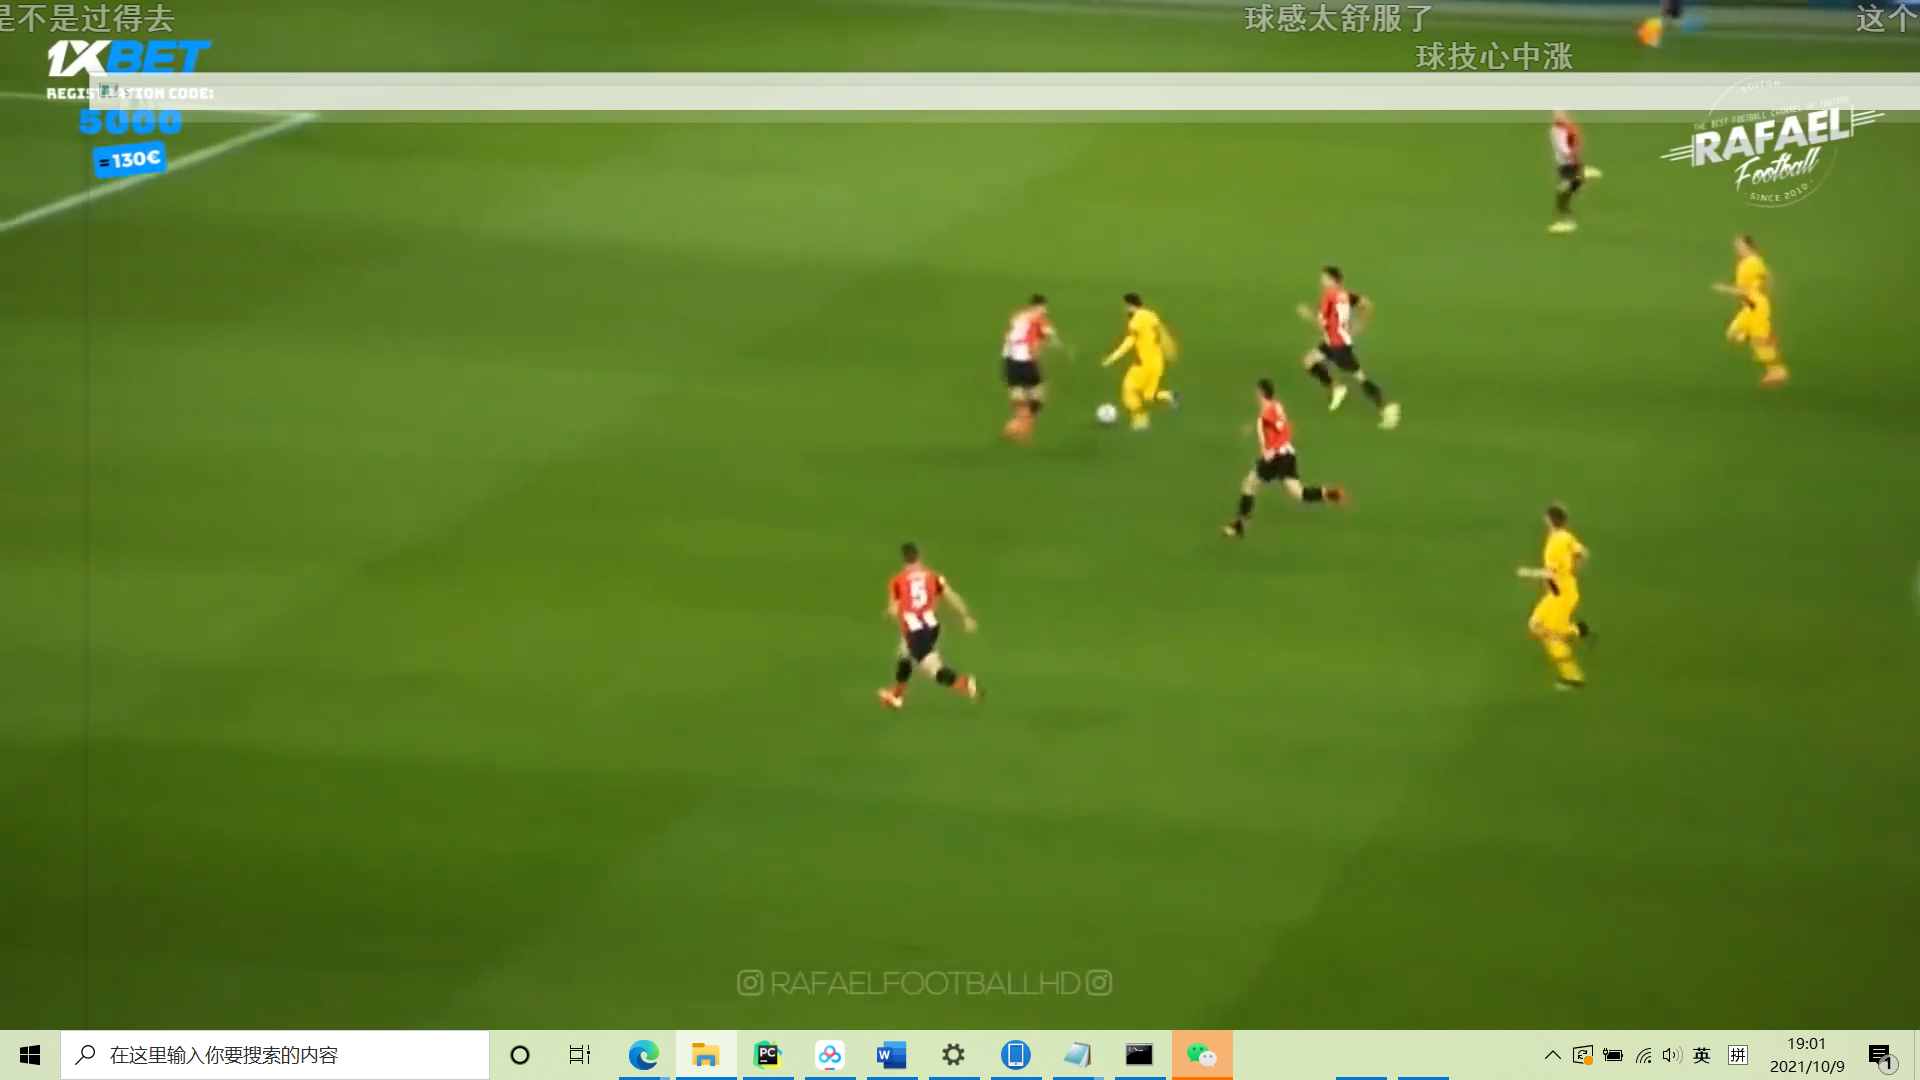ft: (1095, 400, 1120, 430)
